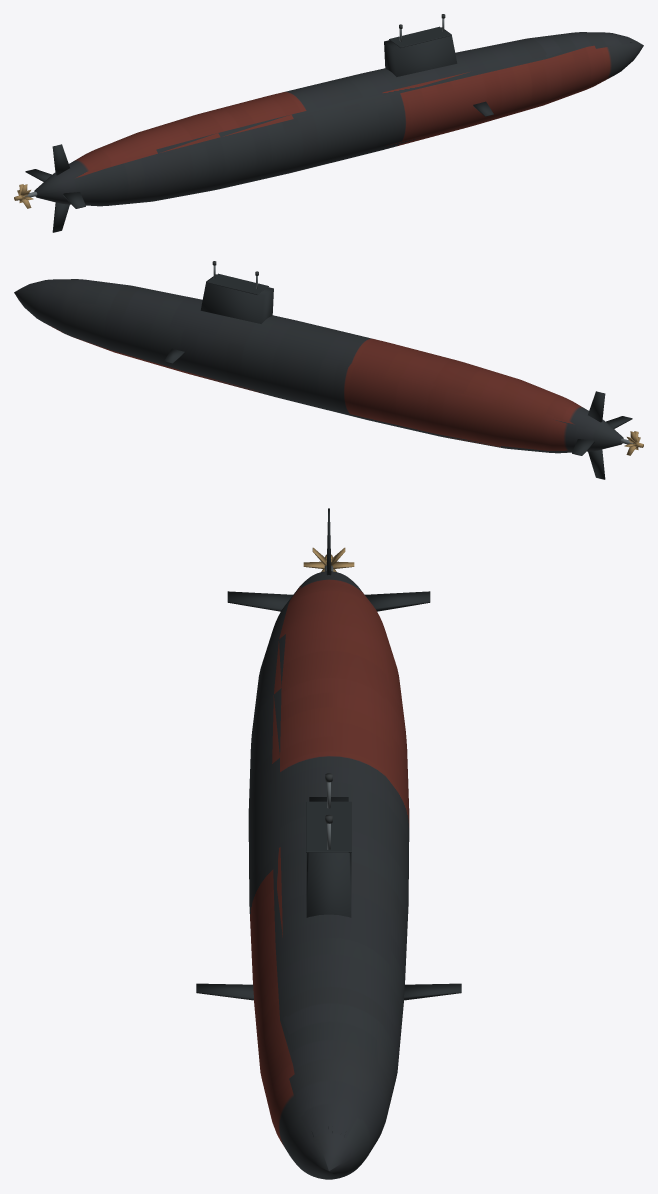
File: RU_SSN_Sierra_LOD2.fbx
The picture shows the model from 3 angles, top to bottom: view 1: azimuth 30°, elevation 25°; view 2: azimuth 150°, elevation 25°; view 3: azimuth 270°, elevation 25°; orthographic projection. The views are drawn at different scales.
Parts seen in each view (by area): view 1: RU_SSN_Sierra_LOD2; view 2: RU_SSN_Sierra_LOD2; view 3: RU_SSN_Sierra_LOD2.
Boxes of the visible parts, x1,y1,x2,y2 form: RU_SSN_Sierra_LOD2: (14, 14, 643, 232); RU_SSN_Sierra_LOD2: (14, 261, 643, 479); RU_SSN_Sierra_LOD2: (196, 508, 461, 1179).
Size of the model in its own units: 111 by 20.24 by 20.66.
6 materials, 1 textured.
